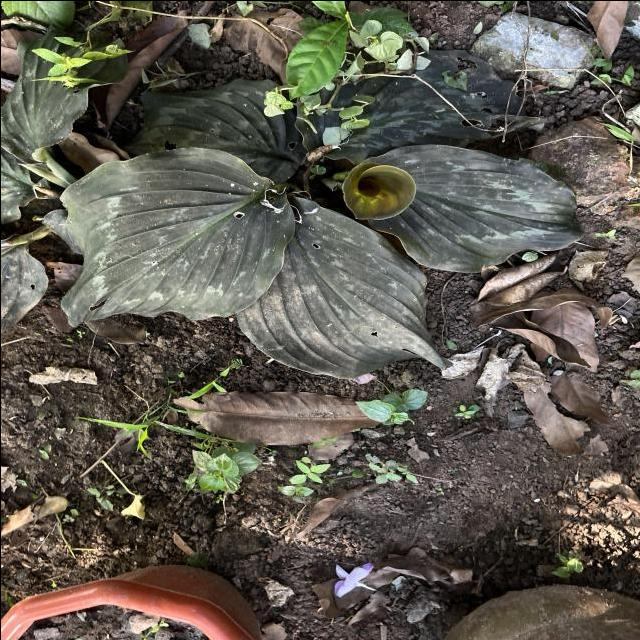Kaempferia galanga linn: (58, 143, 297, 330), (232, 192, 456, 382), (363, 142, 588, 274)
